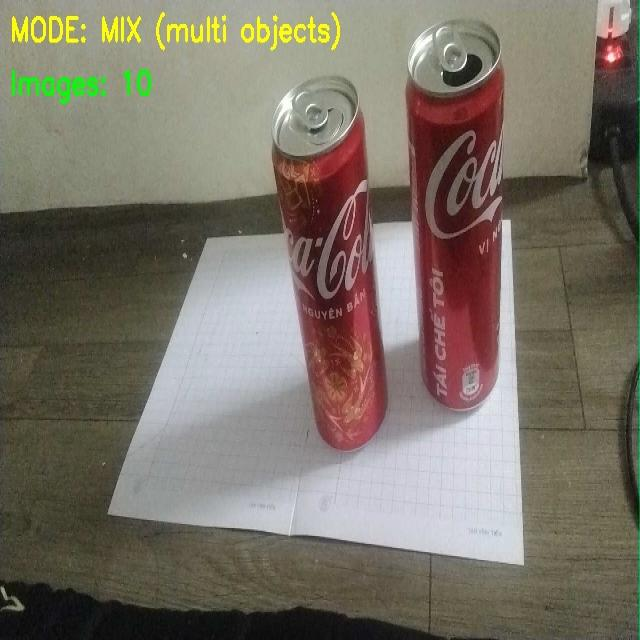Coca: (255, 78, 398, 458)
Coca_open: (401, 28, 534, 416)
